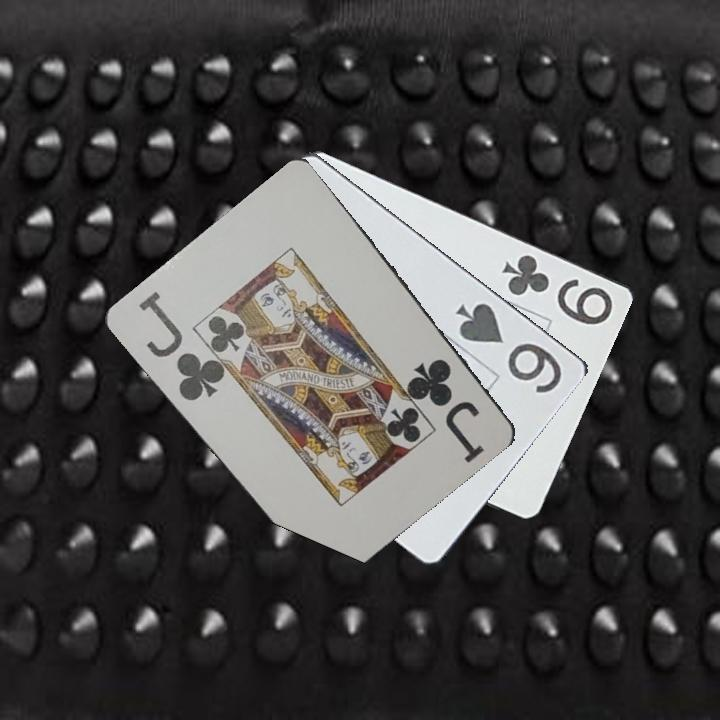6s: (452, 297, 566, 397)
9c: (498, 250, 616, 328)
Jc: (135, 287, 229, 405), (406, 355, 488, 463)
